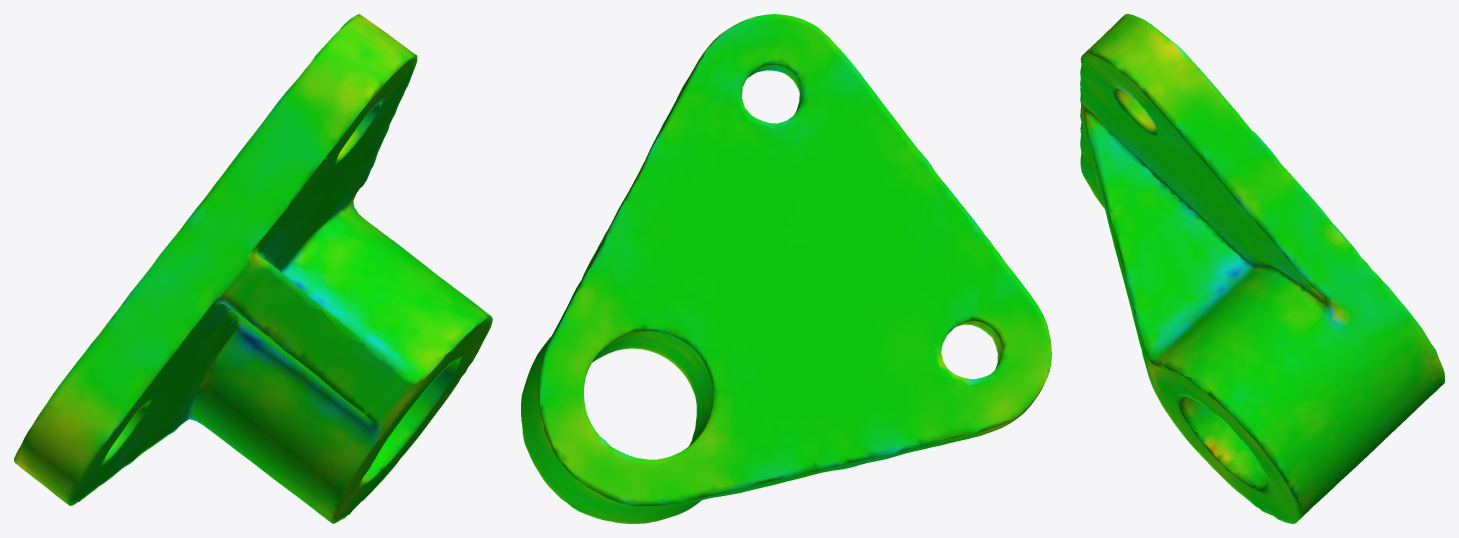
File: all=0.000412-hole=0.002731-sgcn-wo-refine.obj
The picture shows the model from 3 angles, left to right: view 1: azimuth 30°, elevation 25°; view 2: azimuth 150°, elevation 25°; view 3: azimuth 270°, elevation 25°; orthographic projection. The views are drawn at different scales.
Size of the model in its own units: 61.41 by 61.45 by 44.07.
